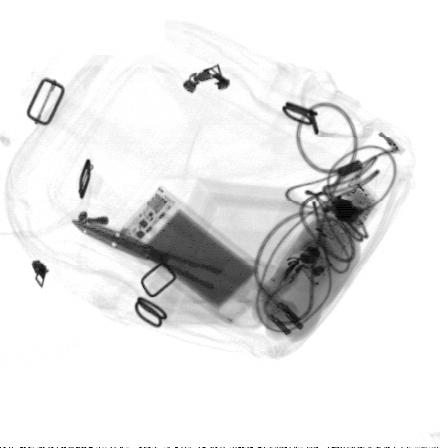Powerbank: (112, 185, 284, 327)
Scissors: (70, 217, 282, 330)
